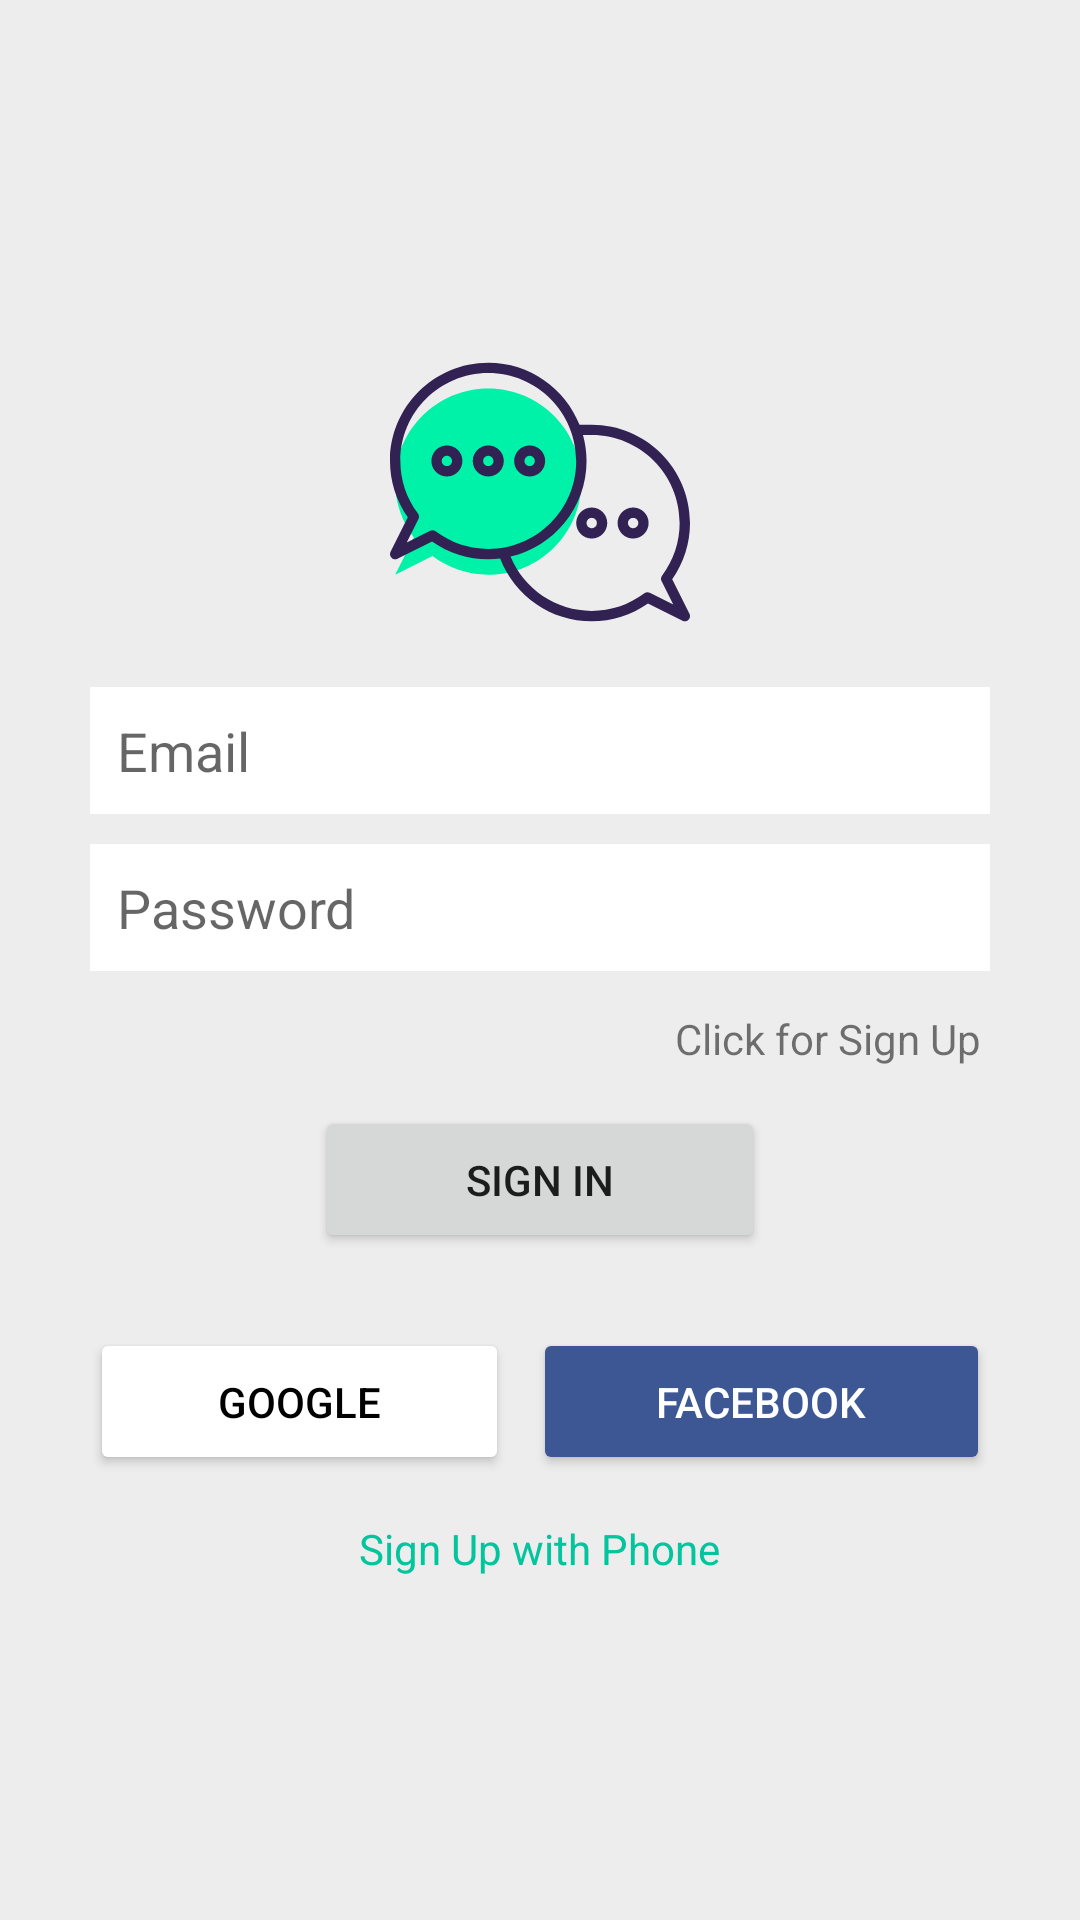

Screen size 1080 x 1920. Icon name, then its box in pixels as region(x1, y1, x2, y2):
chat: region(390, 362, 690, 622)
